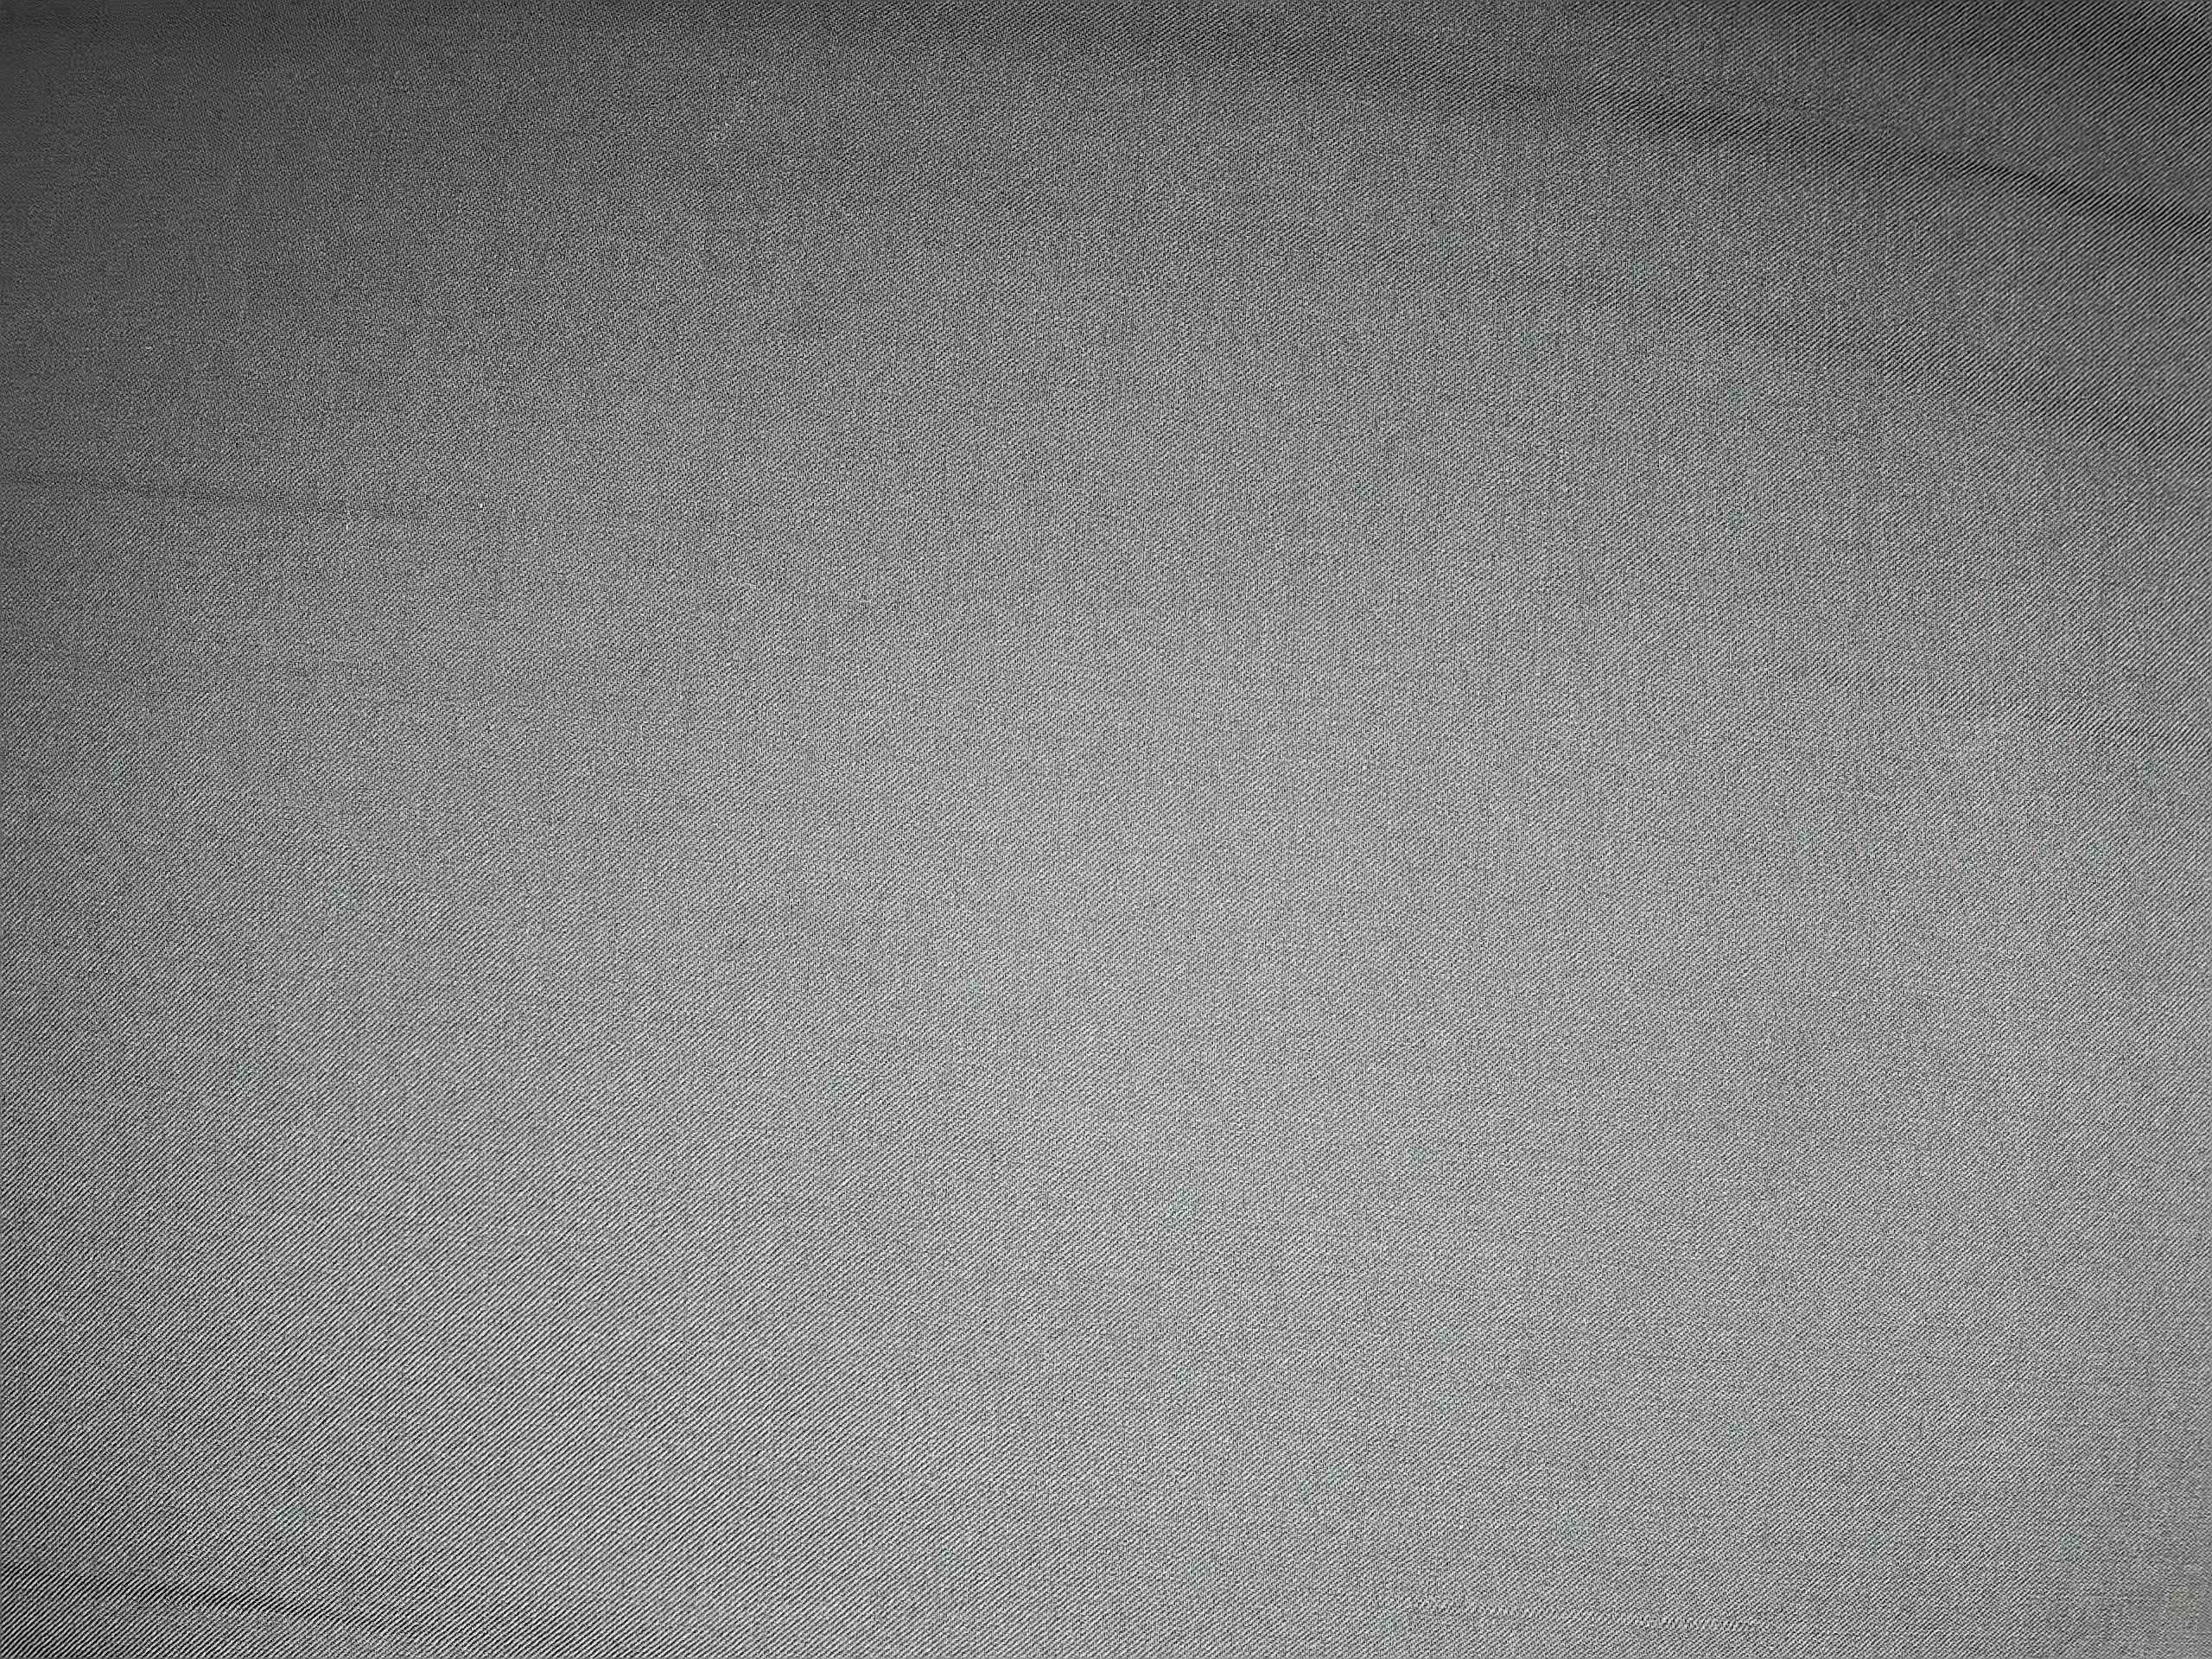thin-spinning: (3, 450, 533, 544)
